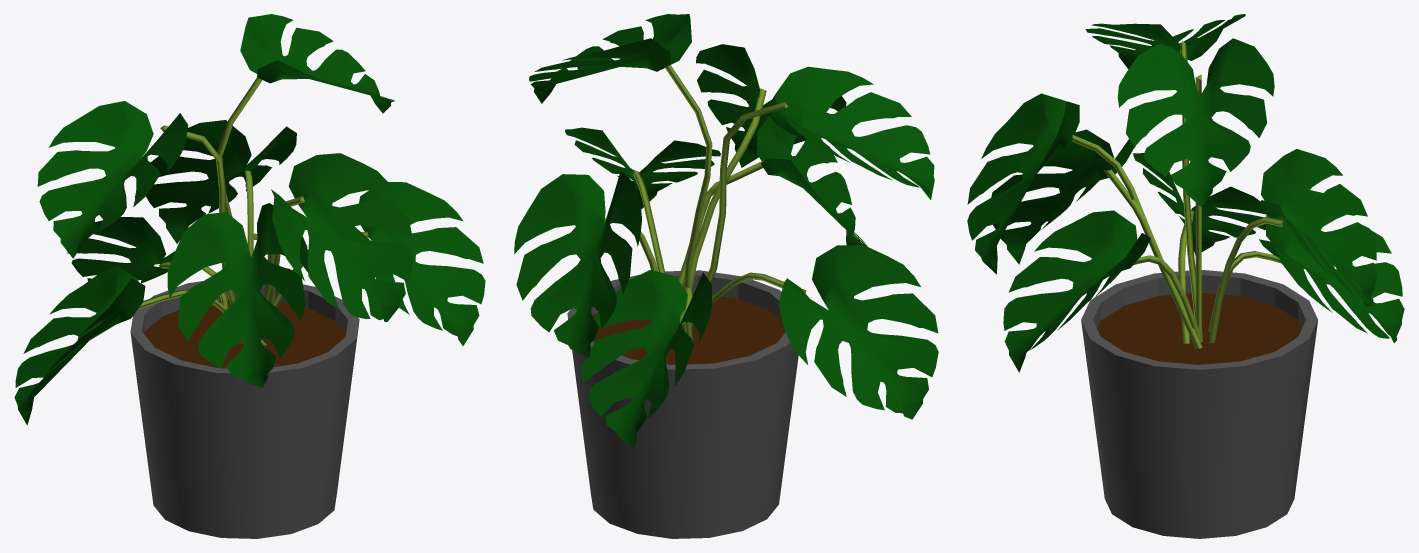
The model's file is monstera.glb.
The picture shows the model from 3 angles, left to right: view 1: azimuth 30°, elevation 25°; view 2: azimuth 150°, elevation 25°; view 3: azimuth 270°, elevation 25°; orthographic projection. The views are drawn at different scales.
Visible parts, largest first — view 1: Grid (×8), Cylinder, BézierCurve.001, BézierCurve, BézierCurve.006; view 2: Grid (×8), Cylinder, BézierCurve, BézierCurve.001, BézierCurve.005, BézierCurve.004, BézierCurve.003, BézierCurve.002; view 3: Grid (×8), Cylinder, BézierCurve.003, BézierCurve.006, BézierCurve.001, BézierCurve, BézierCurve.005, BézierCurve.004, BézierCurve.002, BézierCurve.007.
Part boxes in pixels (bbox=[...]): Grid (×8): bbox=[14, 14, 485, 425]; Cylinder: bbox=[130, 281, 359, 538]; BézierCurve.001: bbox=[160, 125, 244, 344]; BézierCurve: bbox=[217, 77, 262, 343]; BézierCurve.006: bbox=[245, 170, 253, 256]; Grid (×8): bbox=[514, 14, 938, 448]; Cylinder: bbox=[567, 270, 798, 538]; BézierCurve: bbox=[665, 65, 712, 331]; BézierCurve.001: bbox=[691, 102, 788, 328]; BézierCurve.005: bbox=[690, 88, 766, 288]; BézierCurve.004: bbox=[633, 170, 665, 273]; BézierCurve.003: bbox=[678, 157, 770, 285]; BézierCurve.002: bbox=[712, 272, 806, 303]; Grid (×8): bbox=[967, 14, 1404, 372]; Cylinder: bbox=[1081, 270, 1317, 538]; BézierCurve.003: bbox=[1103, 169, 1202, 348]; BézierCurve.006: bbox=[1208, 217, 1282, 343]; BézierCurve.001: bbox=[1180, 41, 1203, 337]; BézierCurve: bbox=[1195, 74, 1201, 335]; BézierCurve.005: bbox=[1072, 135, 1182, 302]; BézierCurve.004: bbox=[1133, 255, 1202, 342]; BézierCurve.002: bbox=[1178, 210, 1193, 343]; BézierCurve.007: bbox=[1208, 251, 1281, 333].
Bounding box in the file's own units: 0.2404 × 0.2619 × 0.2213.
